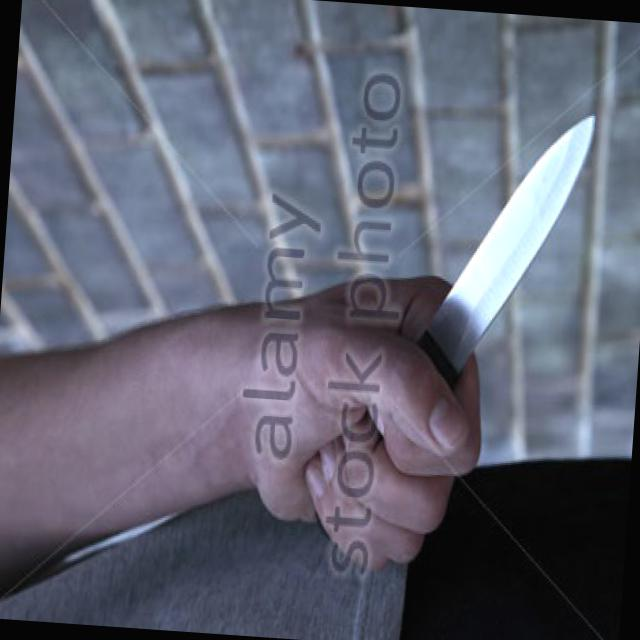knife: (295, 88, 598, 562)
